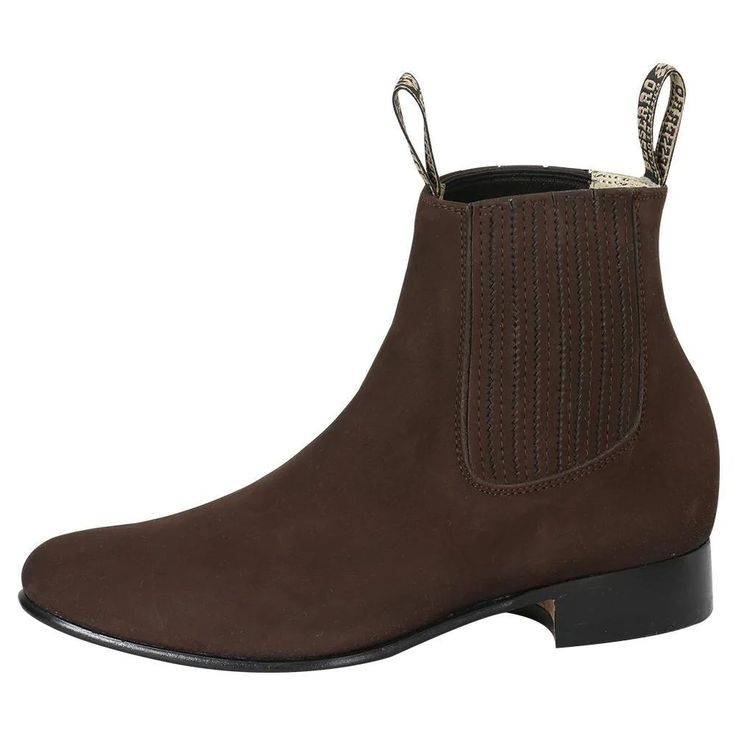gamuza: (22, 165, 720, 659)
